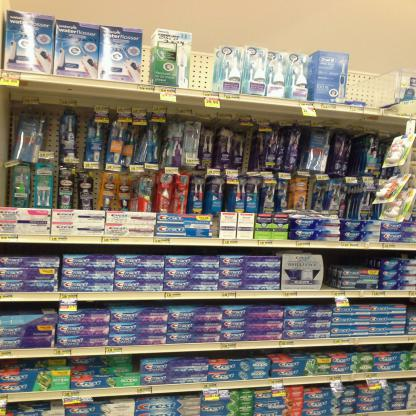Void: (70, 245, 272, 256), (350, 61, 391, 99), (192, 35, 212, 88), (7, 245, 57, 258), (324, 253, 340, 292), (342, 249, 376, 265), (1, 301, 44, 311)
